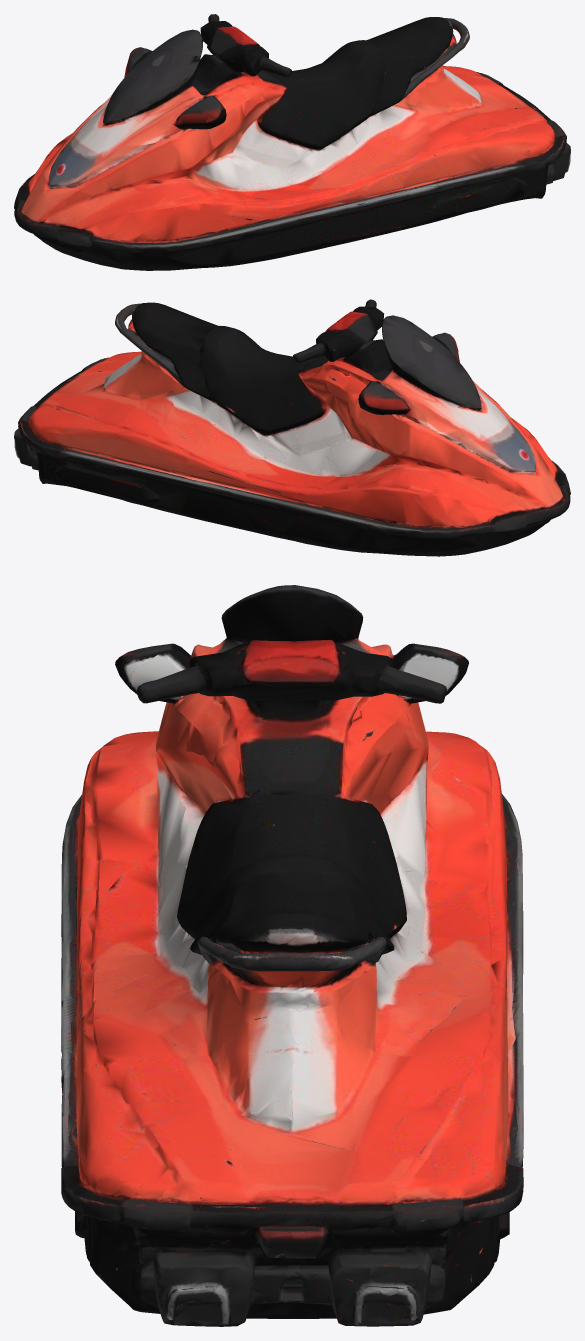
The model's file is jetski.glb.
3 views of the same model, one above another, from view 1: azimuth 30°, elevation 25°; view 2: azimuth 150°, elevation 25°; view 3: azimuth 270°, elevation 25° (orthographic). The views are drawn at different scales.
Visible parts, largest first — view 1: Mesh_0; view 2: Mesh_0; view 3: Mesh_0.
Part boxes in pixels (x1=…): Mesh_0: x1=14, y1=14, x2=570, y2=270; Mesh_0: x1=14, y1=299, x2=570, y2=556; Mesh_0: x1=61, y1=585, x2=523, y2=1326.
Size of the model in its own units: 1.9 by 0.755 by 0.7314.
Materials: 1 (1 with a texture image).
